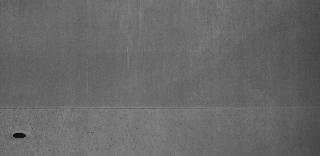punching hole: (12, 130, 26, 140)
welding line: (2, 104, 318, 112)
